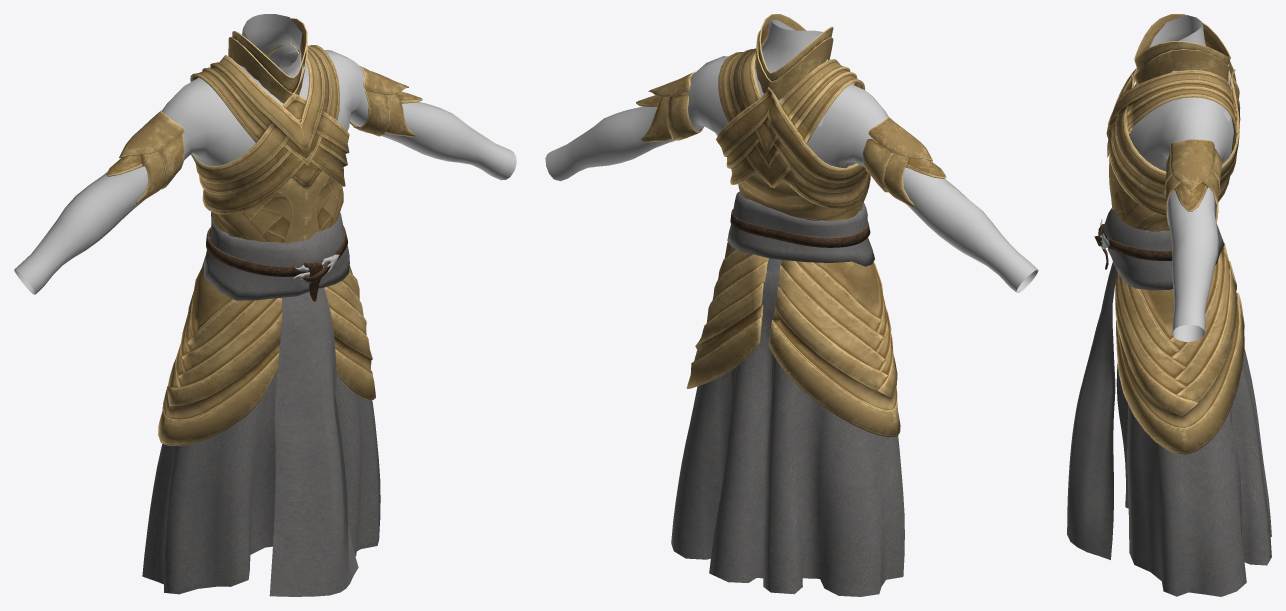
Rendered from rivendell_torso_heavy_tier2.fbx.
The picture shows the model from 3 angles, left to right: view 1: azimuth 30°, elevation 25°; view 2: azimuth 150°, elevation 25°; view 3: azimuth 270°, elevation 25°; orthographic projection. The views are drawn at different scales.
Visible parts, largest first — view 1: rivendell_torso_heavy_tier2.4, rivendell_torso_heavy_tier2.2, rivendell_torso_heavy_tier2.0, rivendell_torso_heavy_tier2.5, rivendell_torso_heavy_tier2.3, rivendell_torso_heavy_tier2.1; view 2: rivendell_torso_heavy_tier2.2, rivendell_torso_heavy_tier2.3, rivendell_torso_heavy_tier2.0, rivendell_torso_heavy_tier2.5, rivendell_torso_heavy_tier2.4, rivendell_torso_heavy_tier2.1; view 3: rivendell_torso_heavy_tier2.2, rivendell_torso_heavy_tier2.3, rivendell_torso_heavy_tier2.4, rivendell_torso_heavy_tier2.0, rivendell_torso_heavy_tier2.5, rivendell_torso_heavy_tier2.1.
Part boxes in pixels (left/top/right/bottom): rivendell_torso_heavy_tier2.4: left=204, top=211, right=358, bottom=596; rivendell_torso_heavy_tier2.2: left=142, top=369, right=380, bottom=594; rivendell_torso_heavy_tier2.0: left=190, top=18, right=349, bottom=243; rivendell_torso_heavy_tier2.5: left=14, top=14, right=516, bottom=294; rivendell_torso_heavy_tier2.3: left=158, top=256, right=375, bottom=446; rivendell_torso_heavy_tier2.1: left=106, top=65, right=422, bottom=204; rivendell_torso_heavy_tier2.2: left=671, top=258, right=904, bottom=596; rivendell_torso_heavy_tier2.3: left=686, top=242, right=900, bottom=437; rivendell_torso_heavy_tier2.0: left=716, top=14, right=870, bottom=234; rivendell_torso_heavy_tier2.5: left=545, top=19, right=1038, bottom=292; rivendell_torso_heavy_tier2.4: left=727, top=191, right=874, bottom=266; rivendell_torso_heavy_tier2.1: left=636, top=71, right=946, bottom=207; rivendell_torso_heavy_tier2.2: left=1116, top=348, right=1271, bottom=596; rivendell_torso_heavy_tier2.3: left=1115, top=242, right=1244, bottom=454; rivendell_torso_heavy_tier2.4: left=1067, top=208, right=1224, bottom=559; rivendell_torso_heavy_tier2.0: left=1106, top=14, right=1240, bottom=231; rivendell_torso_heavy_tier2.5: left=1129, top=15, right=1233, bottom=341; rivendell_torso_heavy_tier2.1: left=1163, top=139, right=1222, bottom=227.
Bounding box in the file's own units: 1.38 × 0.5129 × 1.46.
